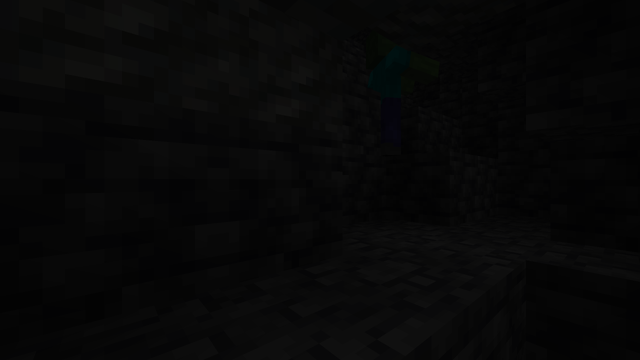zombies: (359, 33, 412, 158)
